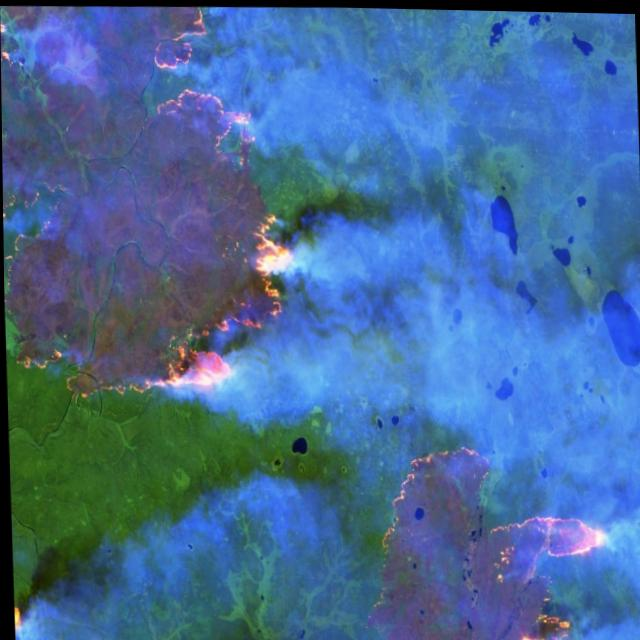fire: (352, 432, 618, 640), (4, 315, 246, 416), (142, 3, 265, 175), (206, 192, 301, 335), (2, 170, 77, 288), (0, 6, 25, 71)
